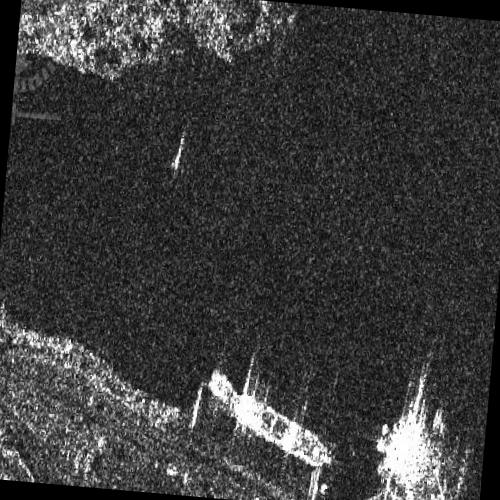ship: (231, 393, 332, 467), (173, 133, 184, 171)
